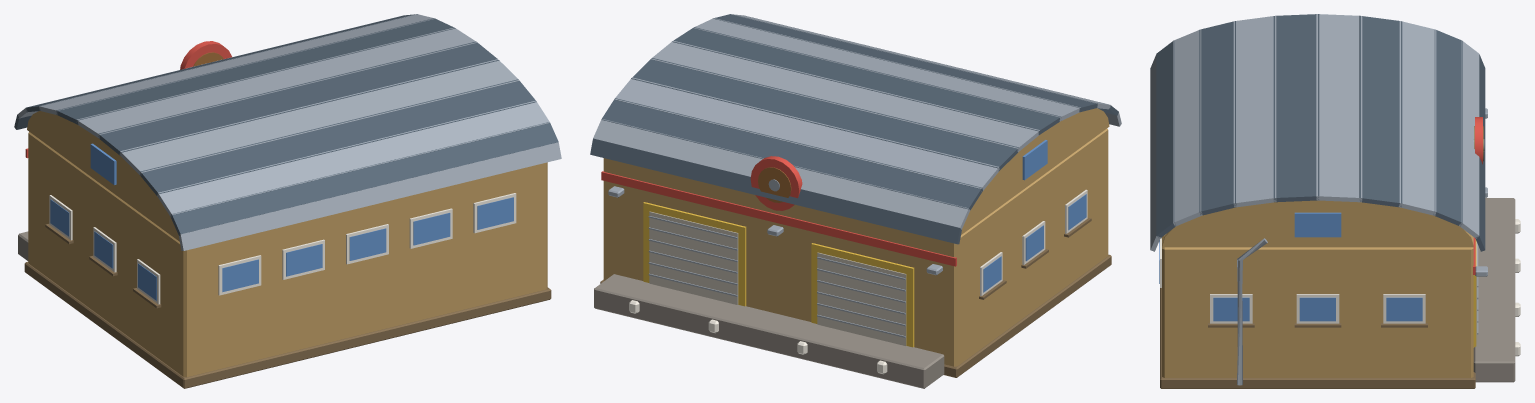
Rendered from bld_d1_a.glb.
3 renders of one model, left to right at view 1: azimuth 30°, elevation 25°; view 2: azimuth 150°, elevation 25°; view 3: azimuth 270°, elevation 25°, orthographic. The views are drawn at different scales.
Parts seen in each view (by area): view 1: bld_d1_a; view 2: bld_d1_a; view 3: bld_d1_a.
Part boxes in pixels (x1,y1,x2,y2): bld_d1_a: (14,14,561,388); bld_d1_a: (590,14,1121,388); bld_d1_a: (1150,14,1520,388).
Size of the model in its own units: 16.67 by 8.41 by 14.25.
